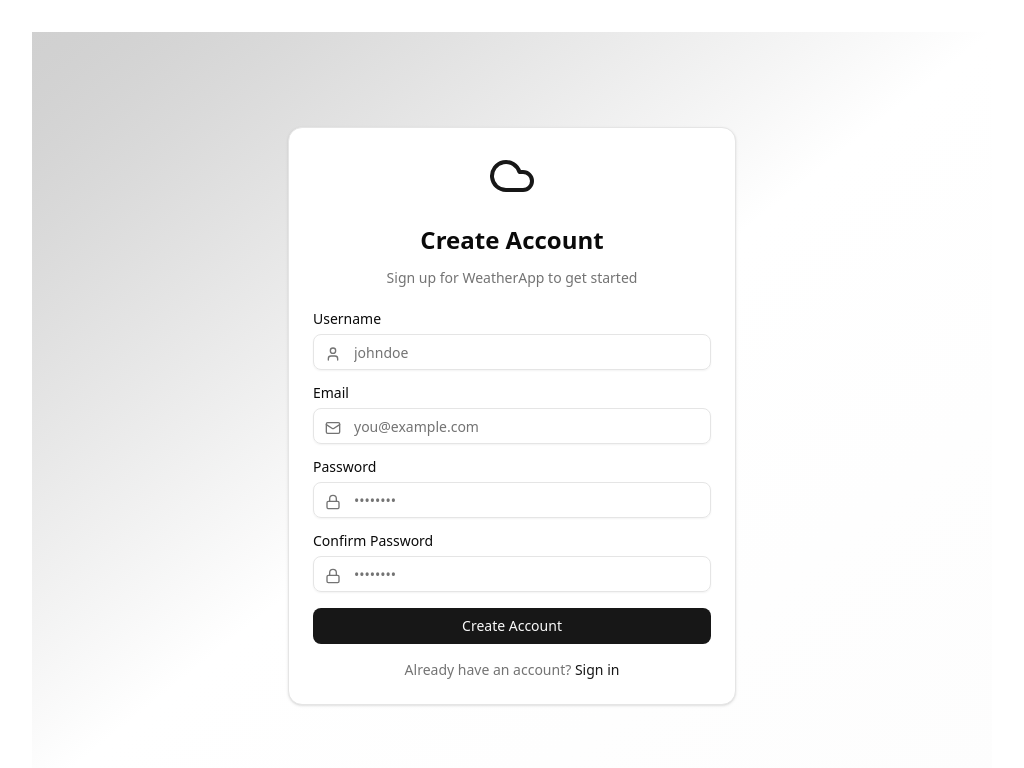
Test case: Register Component › F-2: should display specific API error message on registration failure
// Fill in valid data
Type "TestUser" into the field labelled "Username" at (512, 352), box [313,334,711,370]
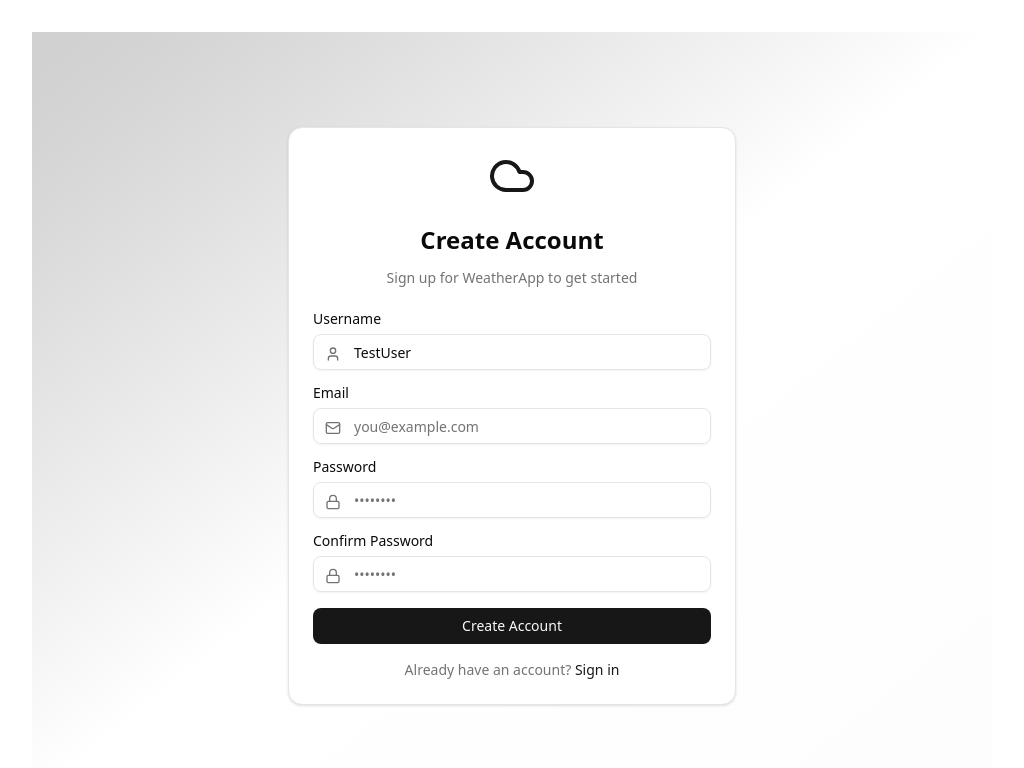
Type "existing@email.com" into the field labelled "Email" at (512, 426), box [313,408,711,444]
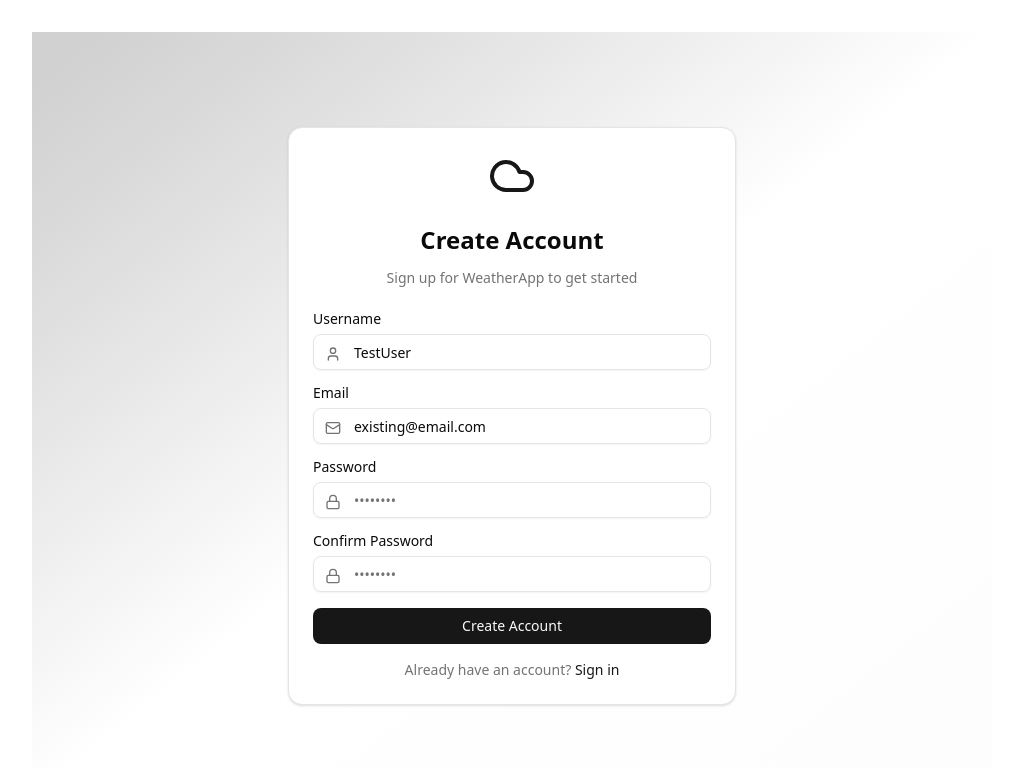
Type "secure123" into the password field labelled "Password" at (512, 500), box [313,482,711,518]
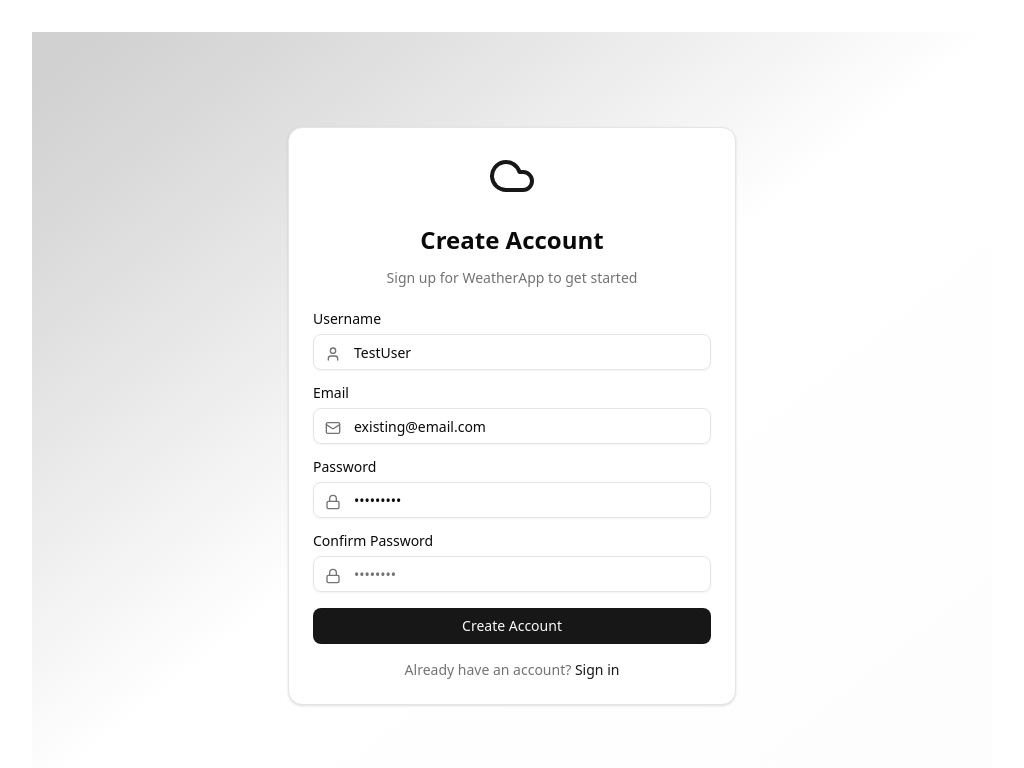
Type "secure123" into the password field labelled "Confirm Password" at (512, 574), box [313,556,711,592]
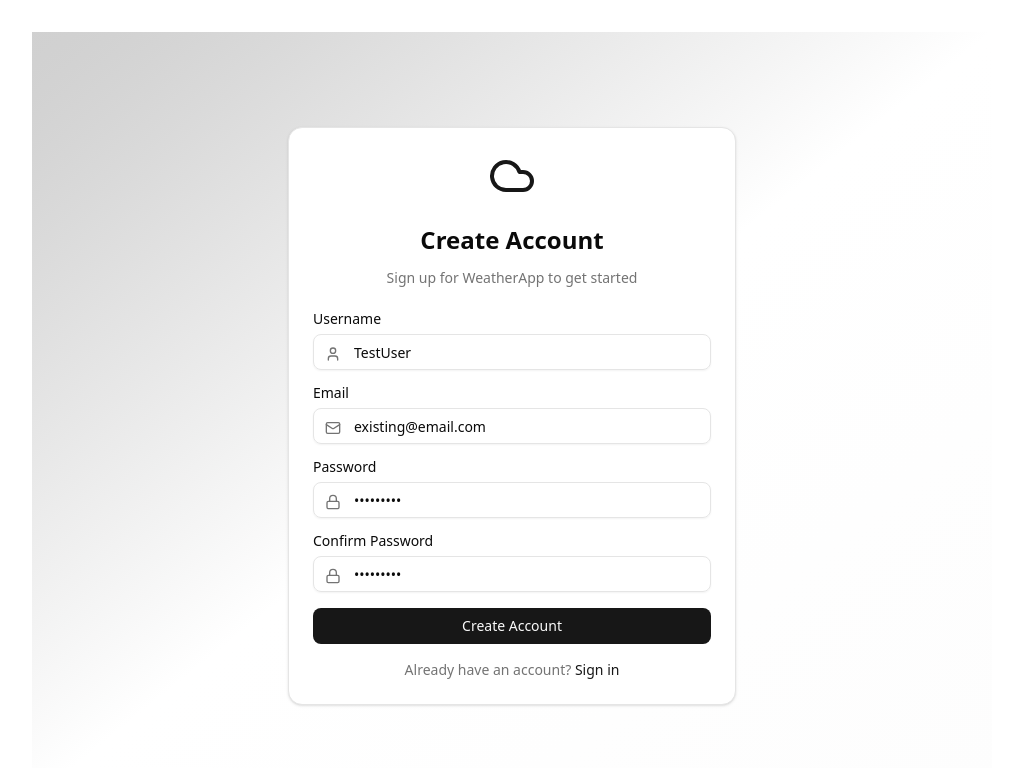
// Submit the form
Click the button "Create Account" at (512, 626), box [313,608,711,644]
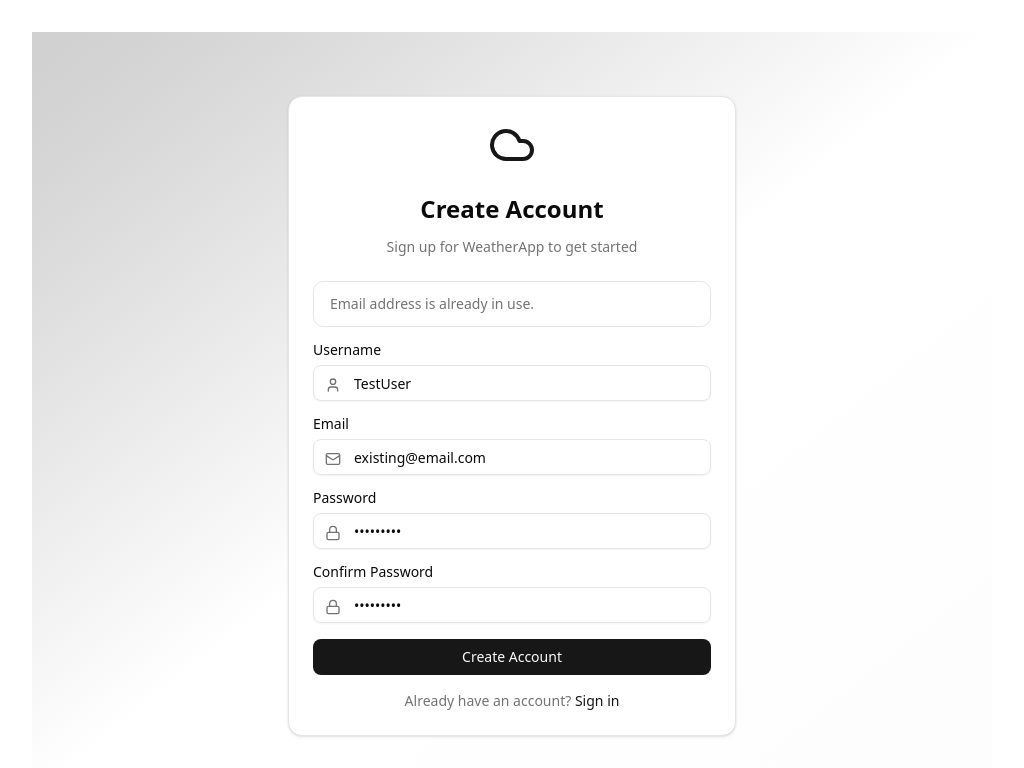
Expected: the button "Create Account" is enabled, [313,639,711,675]
Expected: the text "Email address is already in use." is shown, [330,294,534,313]
